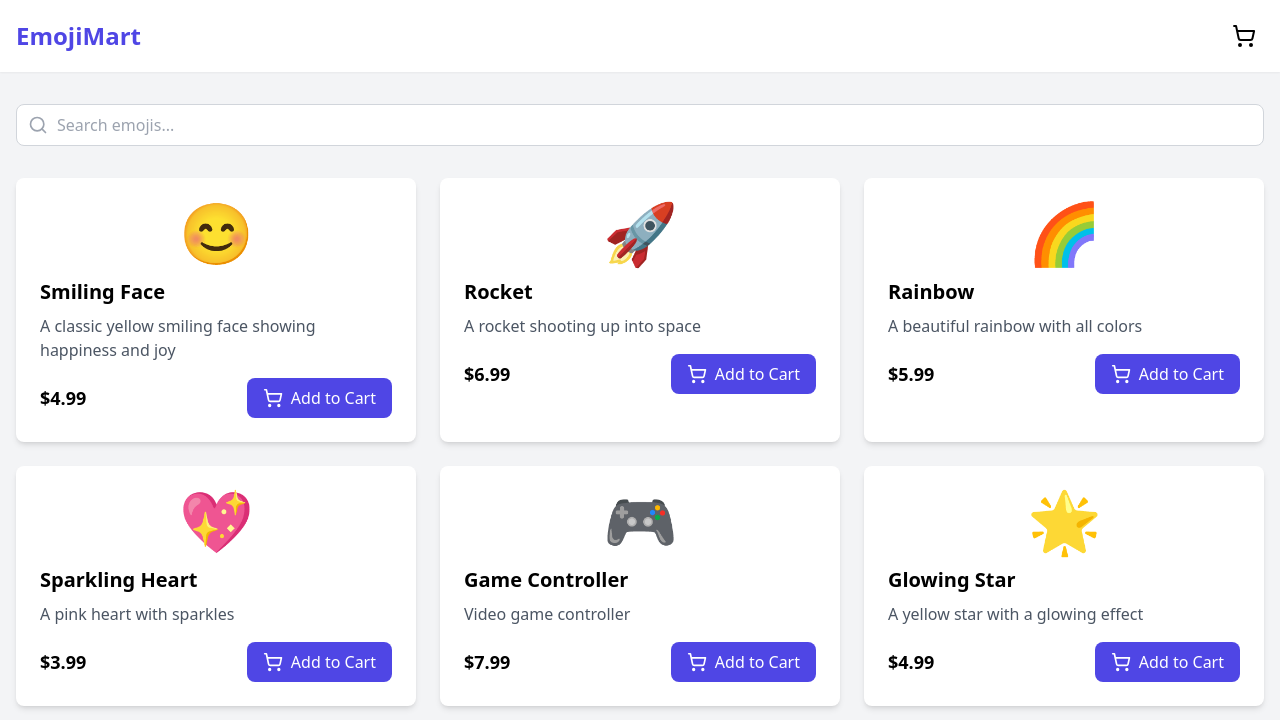
Test: Emoji Mart App › should remove an emoji from the cart
Click the text "😊" at x=216, y=232, box [40,202,392,262]
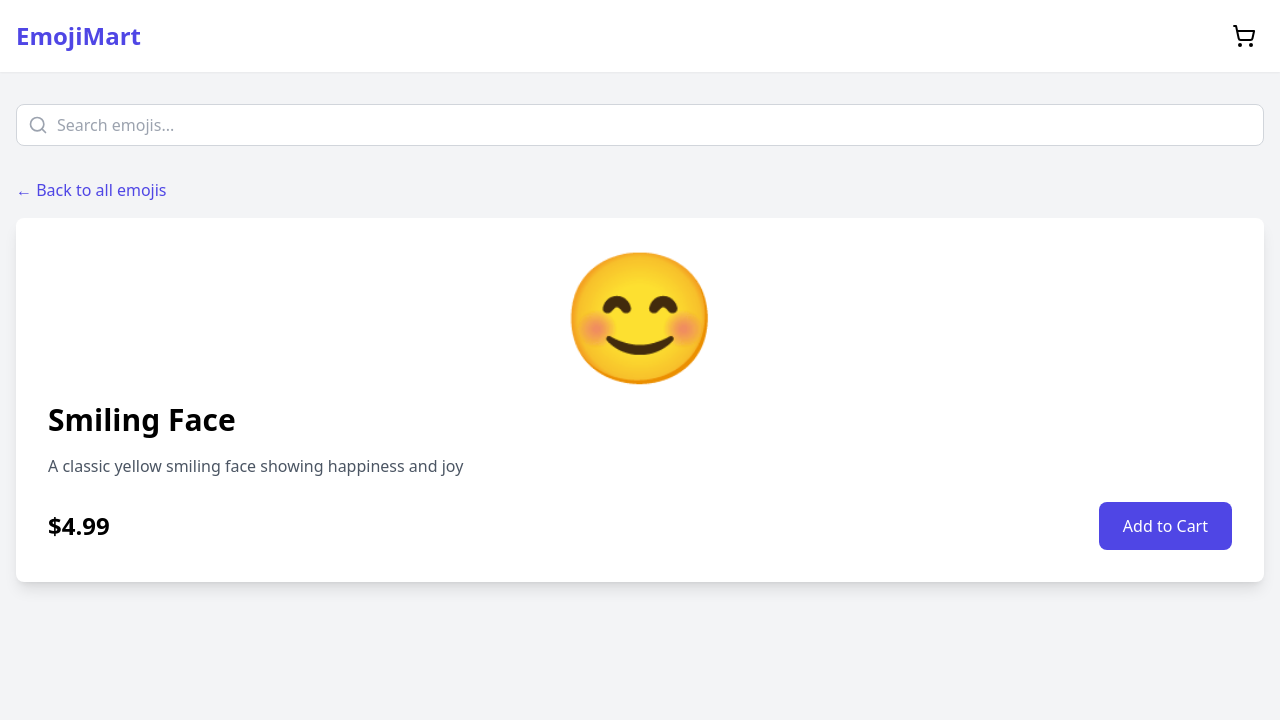
Click the button "Add to Cart" at x=1166, y=526, box [1099,502,1232,550]
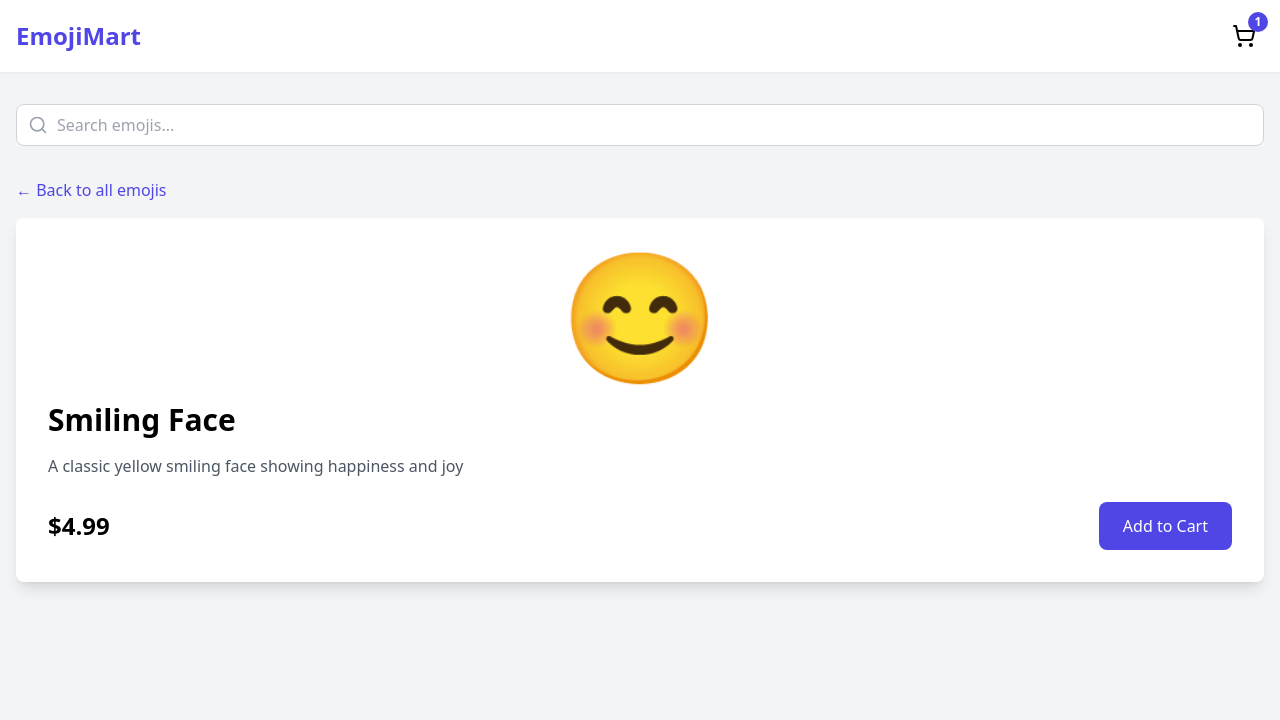
Click the icon with class "lucide-shopping-cart" at x=1244, y=36, box [1232,24,1256,48]
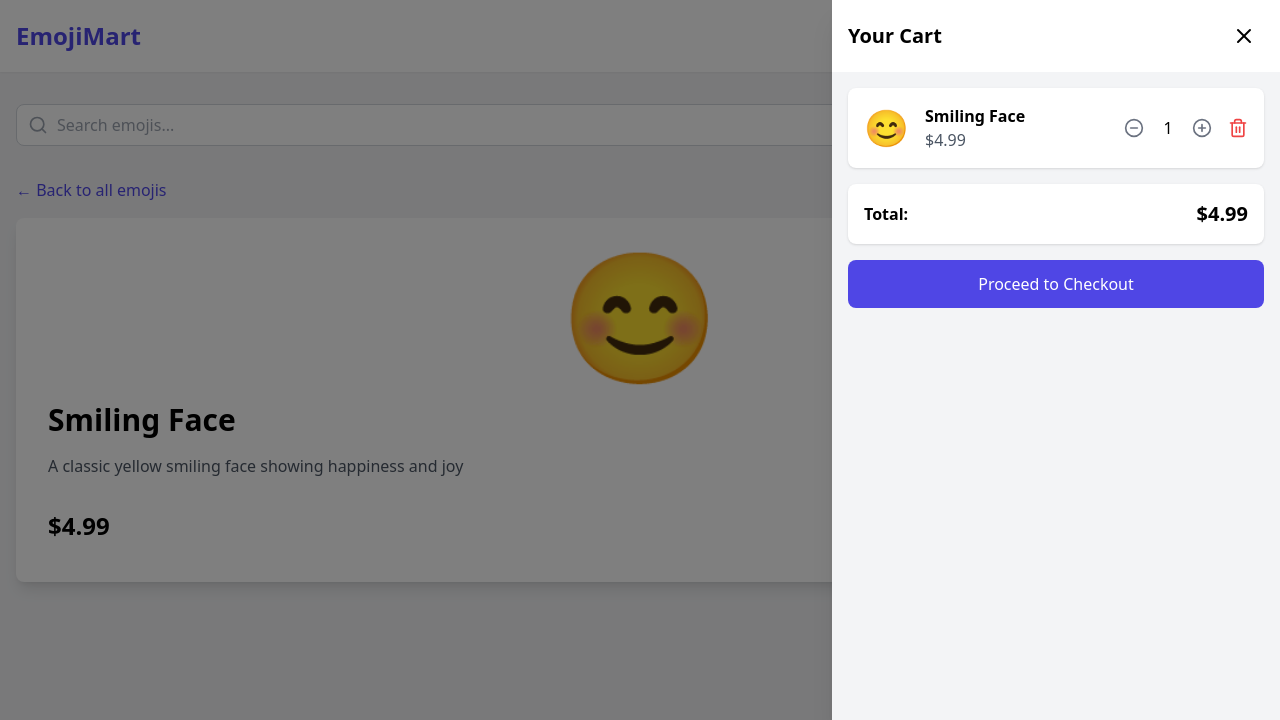
expect the text "😊" is shown: met, box [864,108,909,148]
Click the icon with class "lucide-trash2" at x=1238, y=128, box [1228,118,1248,138]
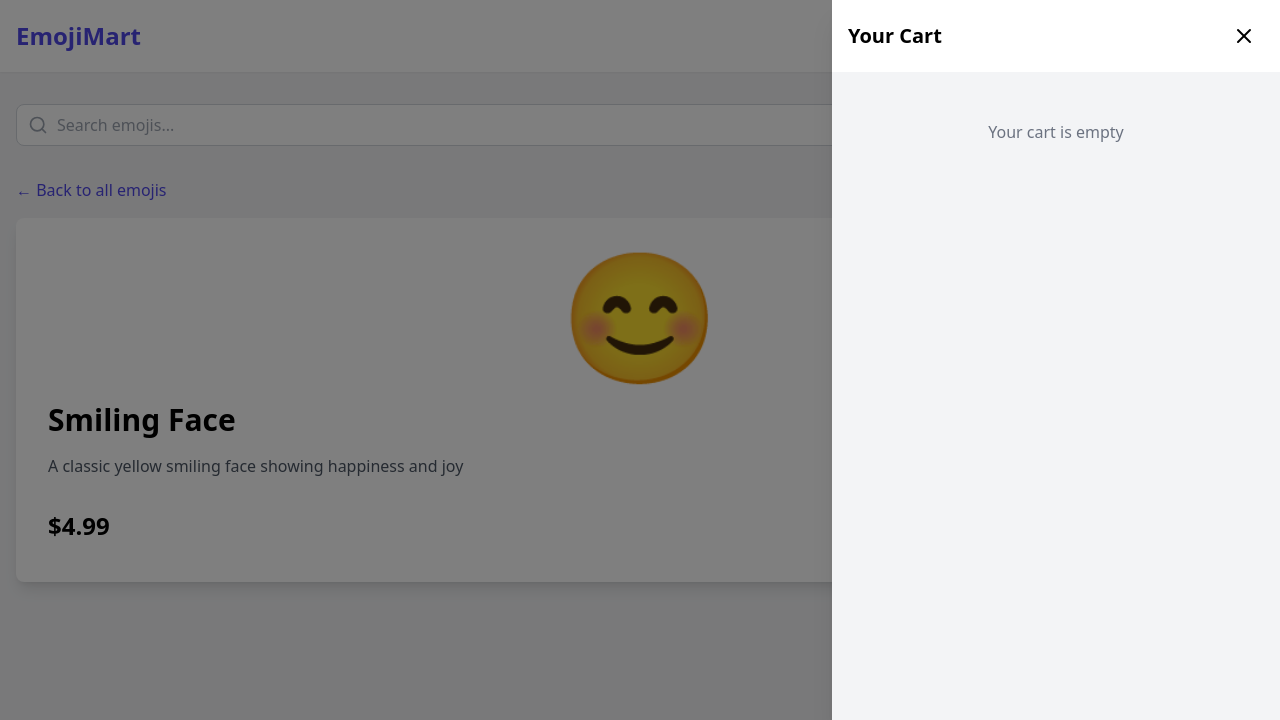
expect the text "Your cart is empty" is shown: met, box [988,121,1124,143]
